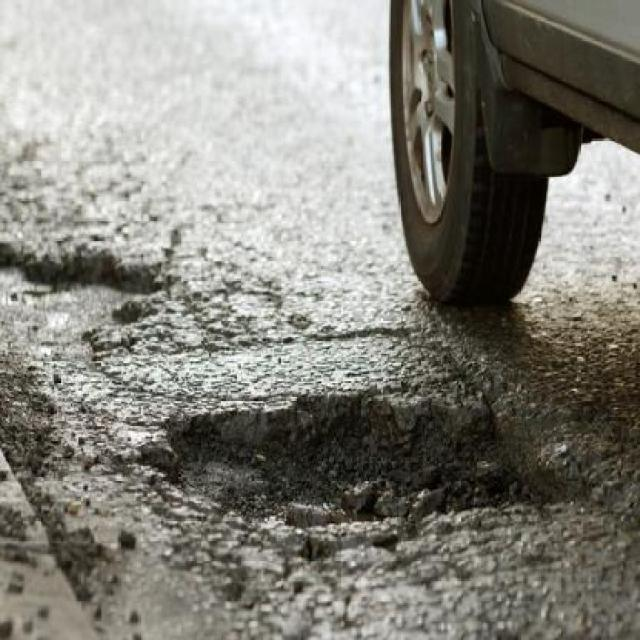Buraco: (121, 384, 602, 536), (0, 238, 185, 368)
